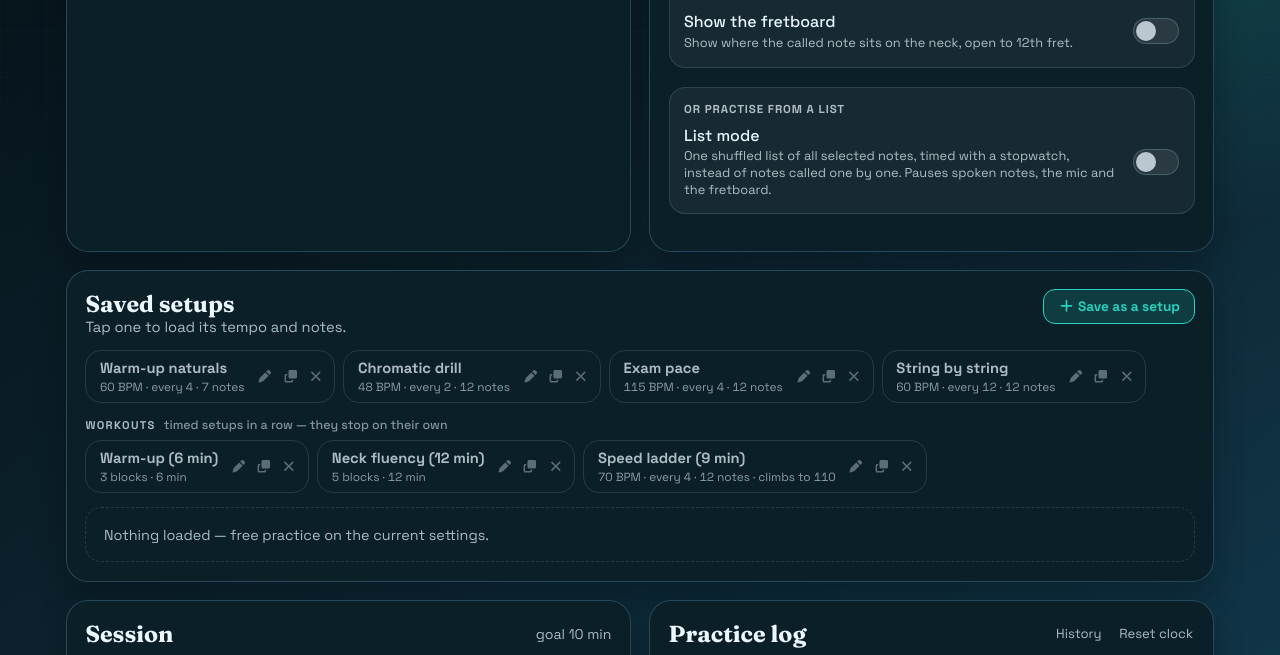
Routines › reads a saved setup as one open-ended block
This screenshot has width=1280, height=655.
(page scrolled)
Click the button with class "routine-chip-body" that starts with "Chromatic drill" at (430, 376), box [344, 351, 516, 402]
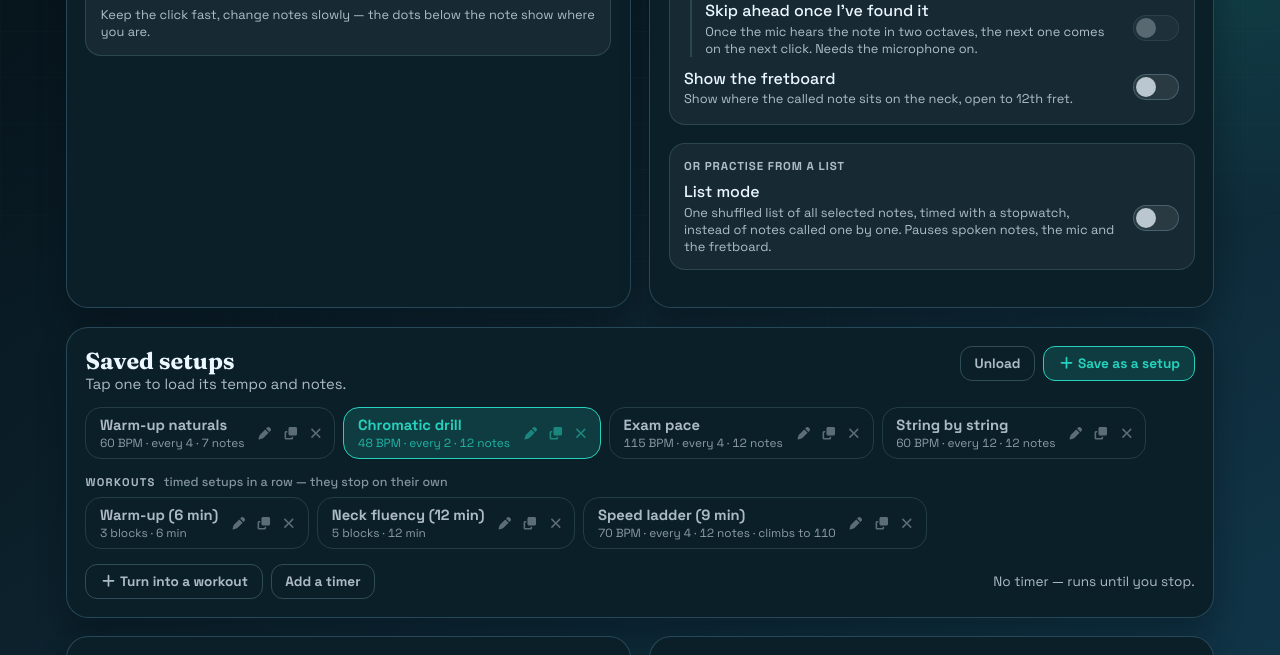
Check: the text with test id "routine-status" reads "No timer — runs until you stop.", box [993, 573, 1195, 590]
Check: the button with test id "routine-add-block" reads "Turn into a workout", box [85, 564, 263, 599]
